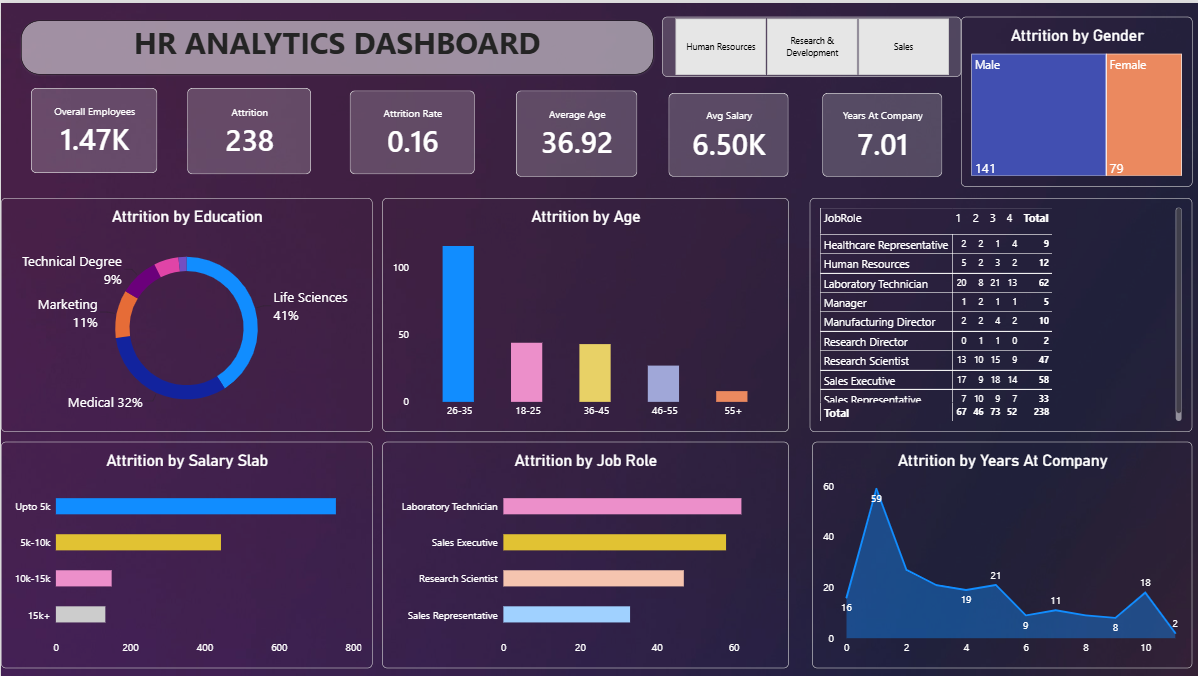

The page's visual inventory and layout, read from the dashboard file:
{"tool":"powerbi","page":{"name":"Page 1","canvas":[1920,1080],"ordinal":0},"visuals":[{"type":"cardVisual","fields":{"Data":["Count(HR_Analytics.EmpID)"]},"box":[48,136,202,136],"z":0},{"type":"cardVisual","fields":{"Data":["Sum(HR_Analytics.AttritionCount)"]},"box":[298,136,198,138],"z":1000},{"type":"cardVisual","fields":{"Data":["HR_Analytics.AttritionRate"]},"box":[558,140,200,134],"z":2000},{"type":"cardVisual","fields":{"Data":["Avg(HR_Analytics.Age)"]},"box":[824,140,194,138],"z":3000},{"type":"cardVisual","fields":{"Data":["Avg(HR_Analytics.MonthlyIncome)"]},"box":[1068,144,192,134],"z":4000},{"type":"cardVisual","fields":{"Data":["Avg(HR_Analytics.YearsAtCompany)"]},"box":[1314,144,192,134],"z":5000},{"type":"donutChart","title":"Attrition by Education","fields":{"Category":["HR_Analytics.EducationField"],"Y":["CountNonNull(HR_Analytics.Attrition)"]},"box":[0,312,594,374],"z":6000},{"type":"columnChart","title":"Attrition by Age","fields":{"Category":["HR_Analytics.AgeGroup"],"Y":["Sum(HR_Analytics.AttritionCount)"]},"box":[610,312,650,374],"z":7000},{"type":"pivotTable","fields":{"Columns":["HR_Analytics.JobSatisfaction"],"Rows":["HR_Analytics.JobRole"],"Values":["Sum(HR_Analytics.AttritionCount)"]},"box":[1294,312,612,374],"z":8000},{"type":"barChart","title":"Attrition by Salary Slab","fields":{"Category":["HR_Analytics.SalarySlab"],"Y":["CountNonNull(HR_Analytics.Attrition)"]},"box":[0,702,594,362],"z":9000},{"type":"barChart","title":"Attrition by Job Role","fields":{"Category":["HR_Analytics.JobRole"],"Y":["Sum(HR_Analytics.AttritionCount)"]},"box":[610,702,650,362],"z":10000},{"type":"areaChart","title":"Attrition by Years At Company","fields":{"Category":["HR_Analytics.YearsAtCompany"],"Y":["Sum(HR_Analytics.AttritionCount)"]},"box":[1298,702,608,362],"z":11000},{"type":"treemap","title":"Attrition by Gender","fields":{"Group":["HR_Analytics.Gender"],"Values":["Sum(HR_Analytics.AttritionCount)"]},"box":[1535.5,22.6,370.5,271.7],"z":12000},{"type":"slicer","fields":{"Values":["HR_Analytics.Department"]},"box":[1058,22,478,96],"z":13000},{"type":"textbox","box":[32,28,1012,86],"z":14000}]}

Visuals, with their boxes in screenshot pixels (x1, y1, x2, y2), scaled from the page's 1920x1080 canvas onto the 1198x676 screenshot:
cardVisual - Count(HR_Analytics.EmpID): (30, 85, 156, 170)
cardVisual - Sum(HR_Analytics.AttritionCount): (186, 85, 309, 172)
cardVisual - HR_Analytics.AttritionRate: (348, 88, 473, 172)
cardVisual - Avg(HR_Analytics.Age): (514, 88, 635, 174)
cardVisual - Avg(HR_Analytics.MonthlyIncome): (666, 90, 786, 174)
cardVisual - Avg(HR_Analytics.YearsAtCompany): (820, 90, 940, 174)
"Attrition by Education" donutChart: (0, 195, 371, 429)
"Attrition by Age" columnChart: (381, 195, 786, 429)
pivotTable - HR_Analytics.JobSatisfaction x HR_Analytics.JobRole: (807, 195, 1189, 429)
"Attrition by Salary Slab" barChart: (0, 439, 371, 666)
"Attrition by Job Role" barChart: (381, 439, 786, 666)
"Attrition by Years At Company" areaChart: (810, 439, 1189, 666)
"Attrition by Gender" treemap: (958, 14, 1189, 184)
slicer - HR_Analytics.Department: (660, 14, 958, 74)
textbox: (20, 18, 651, 71)
